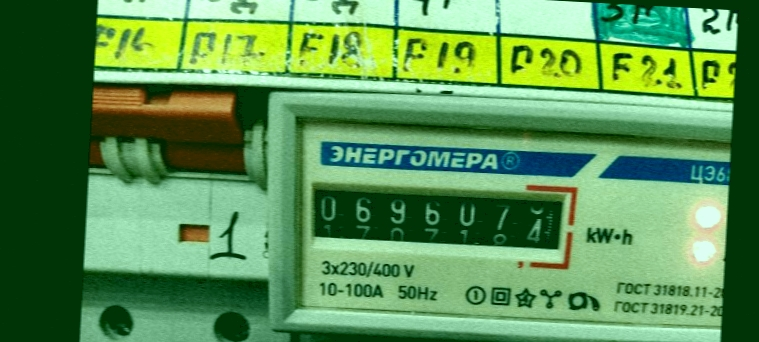0: (457, 195, 478, 226), (318, 190, 338, 219)
4: (525, 213, 543, 242)
6: (422, 195, 443, 225), (353, 191, 374, 220)
7: (493, 199, 512, 229)
9: (388, 194, 407, 223)
screen: (295, 162, 584, 266)
